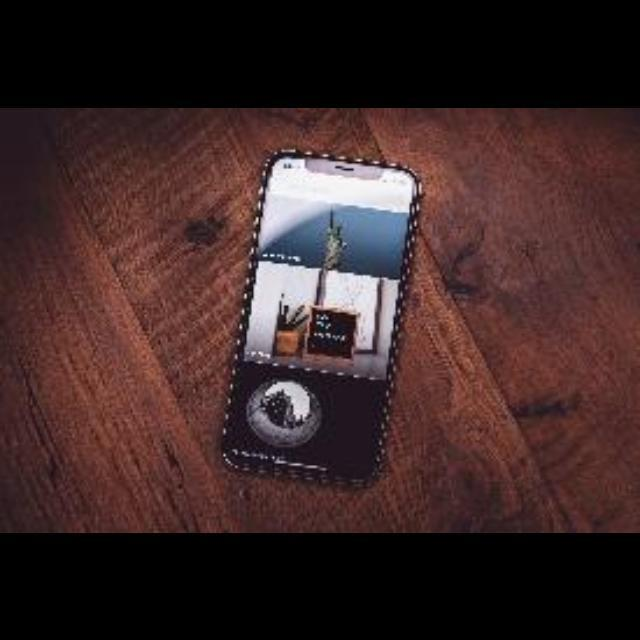PhoneUse: (219, 150, 419, 488)
